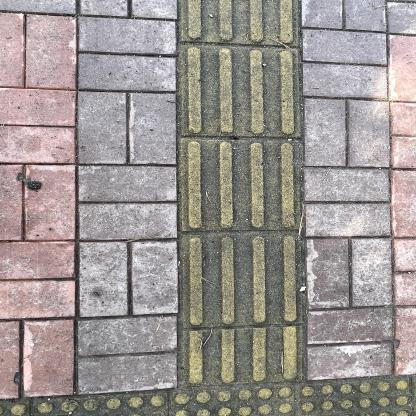podotacti: (154, 0, 310, 385), (0, 369, 415, 415)
